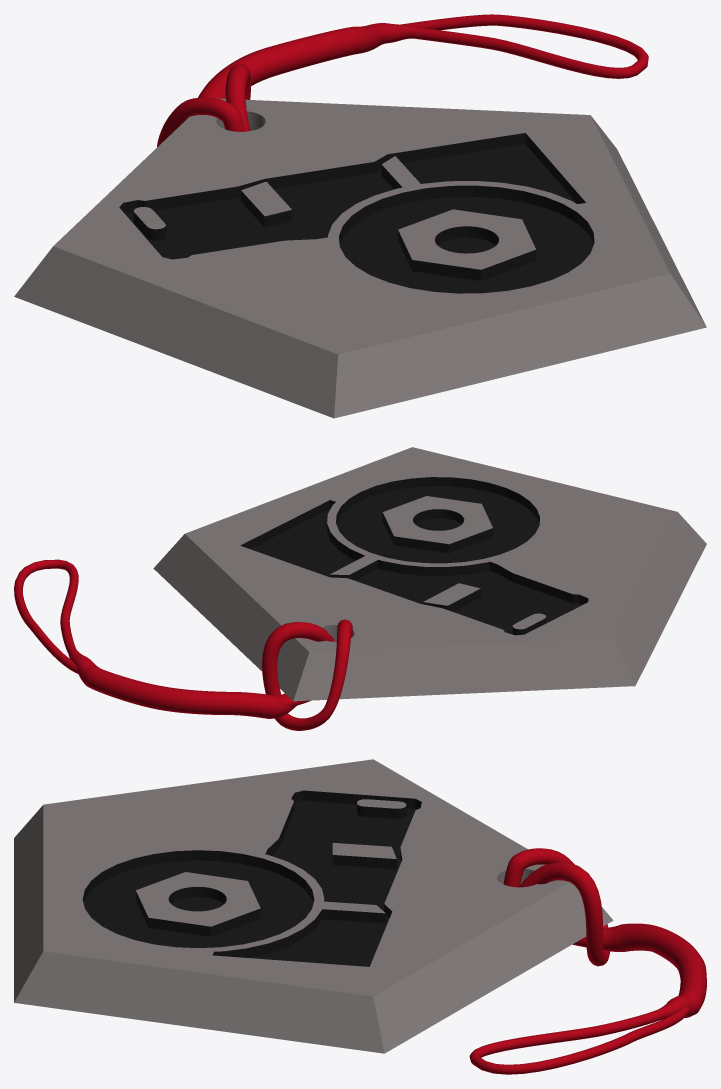
3 views of the same model, one above another, from view 1: azimuth 30°, elevation 25°; view 2: azimuth 150°, elevation 25°; view 3: azimuth 270°, elevation 25° (orthographic). The views are drawn at different scales.
Visible parts, largest first — view 1: 円.006, ベジエカーブ; view 2: 円.006, ベジエカーブ; view 3: 円.006, ベジエカーブ.
Boxes of the visible parts, box(x1,y1,x2,y2) form: 円.006: box(14, 98, 706, 418); ベジエカーブ: box(157, 14, 648, 147); 円.006: box(153, 447, 706, 701); ベジエカーブ: box(14, 559, 352, 730); 円.006: box(14, 759, 613, 1053); ベジエカーブ: box(469, 848, 706, 1074).
Bounding box in the file's own units: 1.22 × 0.1938 × 1.16.
